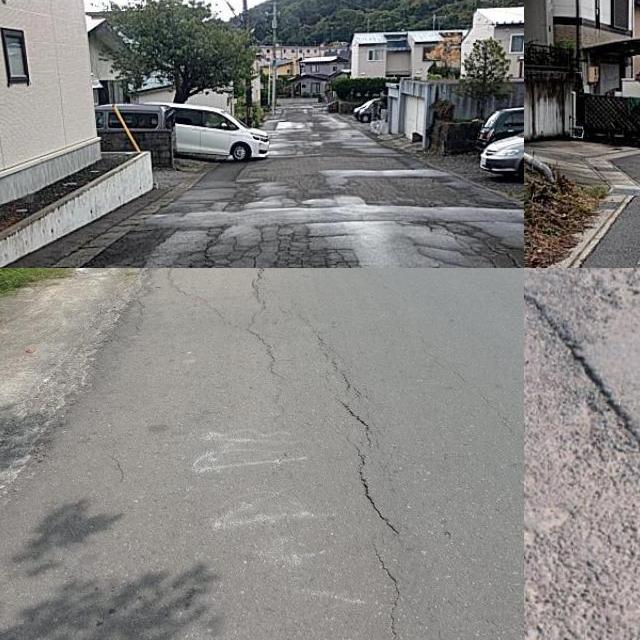Memanjang: (306, 322, 413, 551), (242, 268, 276, 332)
